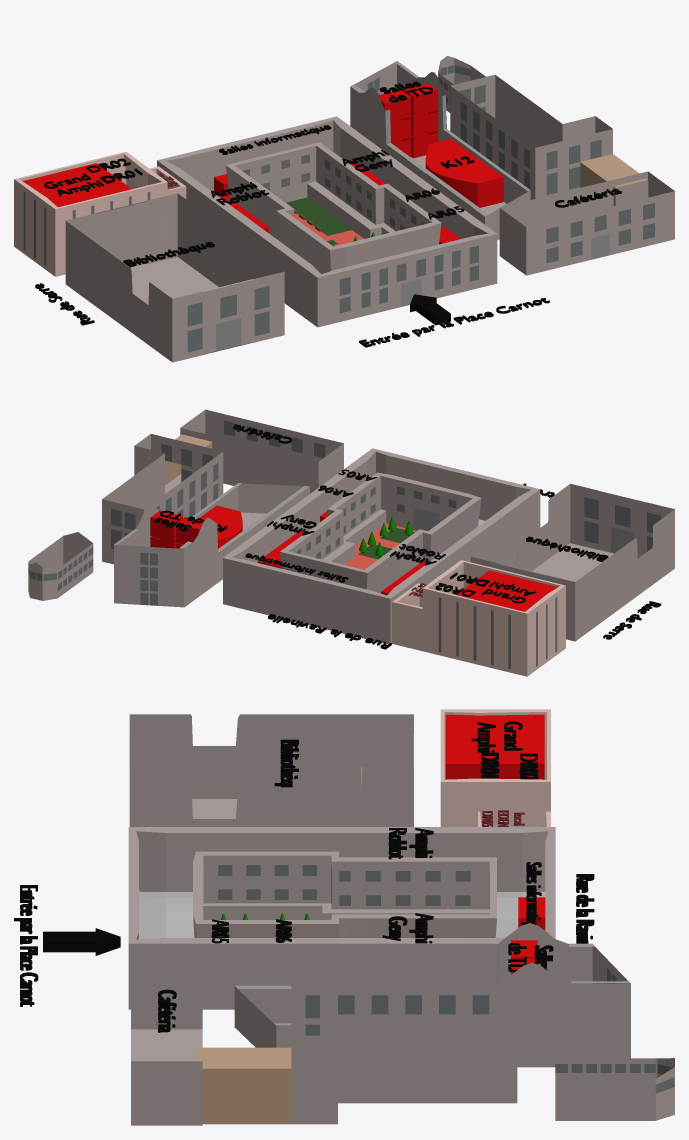
File: amphis6.glb
3 renders of one model, top to bottom at view 1: azimuth 30°, elevation 25°; view 2: azimuth 150°, elevation 25°; view 3: azimuth 270°, elevation 25°, orthographic. The views are drawn at different scales.
Visible parts, largest first — view 1: Bâtiment principal, Cube.001, Cube.006, Cube.005, Cube, Cube.004, Roblot.005, Geny.003, Roblot.003, sol fac, toits, Roblot.004 (+6 smaller); view 2: Bâtiment principal, Cube.001, Cube, Cube.004, Cube.006, Cube.005, Cube.007, Geny.003, sol fac, Roblot.005, Roblot.003, toits (+8 smaller); view 3: Bâtiment principal, Cube.006, Cube.001, Cube.004, Cube.005, Cube.007, Cube, Geny.003, Cube.003, Geny.009, Geny.011, Roblot (+7 smaller).
Part boxes in pixels (x1=…): Bâtiment principal: x1=157, y1=116, x2=497, y2=327; Cube.001: x1=65, y1=193, x2=284, y2=362; Cube.006: x1=450, y1=74, x2=648, y2=205; Cube.005: x1=499, y1=171, x2=674, y2=275; Cube: x1=14, y1=152, x2=186, y2=276; Cube.004: x1=350, y1=62, x2=530, y2=240; Roblot.005: x1=425, y1=139, x2=503, y2=207; Geny.003: x1=23, y1=163, x2=131, y2=207; Roblot.003: x1=403, y1=83, x2=438, y2=158; sol fac: x1=286, y1=197, x2=374, y2=246; toits: x1=163, y1=61, x2=529, y2=285; Roblot.004: x1=378, y1=90, x2=410, y2=159; Bâtiment principal: x1=223, y1=448, x2=540, y2=644; Cube.001: x1=470, y1=483, x2=674, y2=641; Cube: x1=392, y1=560, x2=565, y2=676; Cube.004: x1=114, y1=483, x2=309, y2=607; Cube.006: x1=102, y1=434, x2=223, y2=564; Cube.005: x1=180, y1=409, x2=343, y2=493; Cube.007: x1=28, y1=532, x2=93, y2=600; Geny.003: x1=456, y1=570, x2=557, y2=611; sol fac: x1=344, y1=516, x2=431, y2=569; Roblot.005: x1=199, y1=505, x2=242, y2=553; Roblot.003: x1=150, y1=510, x2=182, y2=548; toits: x1=114, y1=483, x2=518, y2=566; Bâtiment principal: x1=128, y1=827, x2=555, y2=1009; Cube.006: x1=197, y1=985, x2=517, y2=1124; Cube.001: x1=129, y1=714, x2=413, y2=826; Cube.004: x1=234, y1=923, x2=630, y2=1067; Cube.005: x1=131, y1=965, x2=202, y2=1125; Cube.007: x1=555, y1=1058, x2=674, y2=1120; Cube: x1=440, y1=709, x2=550, y2=826; Geny.003: x1=445, y1=714, x2=544, y2=779; Cube.003: x1=43, y1=928, x2=120, y2=955; Geny.009: x1=14, y1=885, x2=38, y2=1006; Geny.011: x1=576, y1=874, x2=594, y2=943; Roblot: x1=388, y1=828, x2=433, y2=859.
Size of the model in its own units: 18.88 by 2.76 by 14.54.
